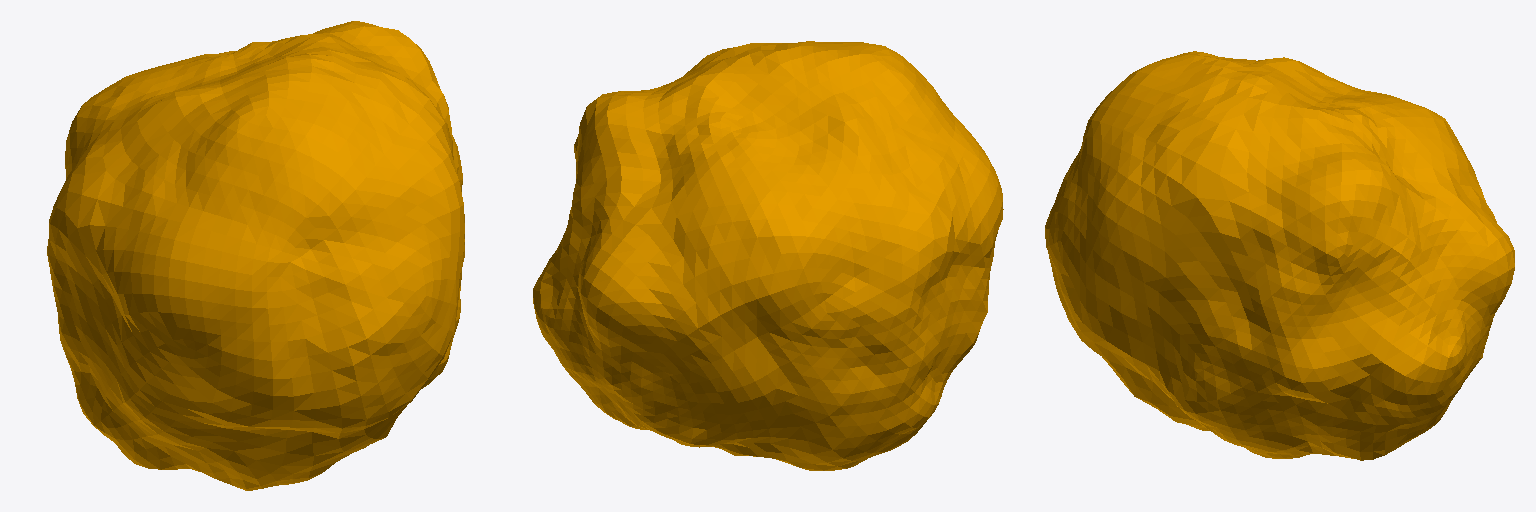
The robot description file, URDF, robot "rock":
<?xml version="1.0" ?>
<robot name="rock">
  <link name="rock">
    <inertial>
      <mass value="0.25"/>
      <origin rpy="0 0 0" xyz="0 0 0"/>
      <inertia ixx="0.00025" ixy="0" ixz="0" iyy="0.00025" iyz="0" izz="0.00025"/>
    </inertial>
    <collision name="rock_collision">
      <origin rpy="0 0 0" xyz="0 0 0"/>
      <geometry>
        <mesh filename="package://rocks/collision/31.stl" scale="1 1 1"/>
      </geometry>
    </collision>
    <visual name="rock_visual">
      <origin rpy="0 0 0" xyz="0 0 0"/>
      <geometry>
        <mesh filename="package://rocks/visual/31.dae" scale="1 1 1"/>
      </geometry>
    </visual>
  </link>
</robot>

--- Render facts (derived) ---
The picture shows the robot from 3 angles, left to right: view 1: azimuth 30°, elevation 25°; view 2: azimuth 150°, elevation 25°; view 3: azimuth 270°, elevation 25°; orthographic projection.
Model rock with 1 links and 0 joints (none), rooted at rock, posed all joints at 0.
Visible links, largest first — view 1: rock; view 2: rock; view 3: rock.
Boxes of the visible links, bbox=[...] form: rock: bbox=[47, 21, 464, 490]; rock: bbox=[533, 41, 1003, 470]; rock: bbox=[1045, 51, 1514, 460].
Size in the robot's own frame: 0.0716 by 0.082 by 0.072 metres.
Meshes: 1 distinct files referenced, 1 mesh visuals loaded (1 Collada DAE).